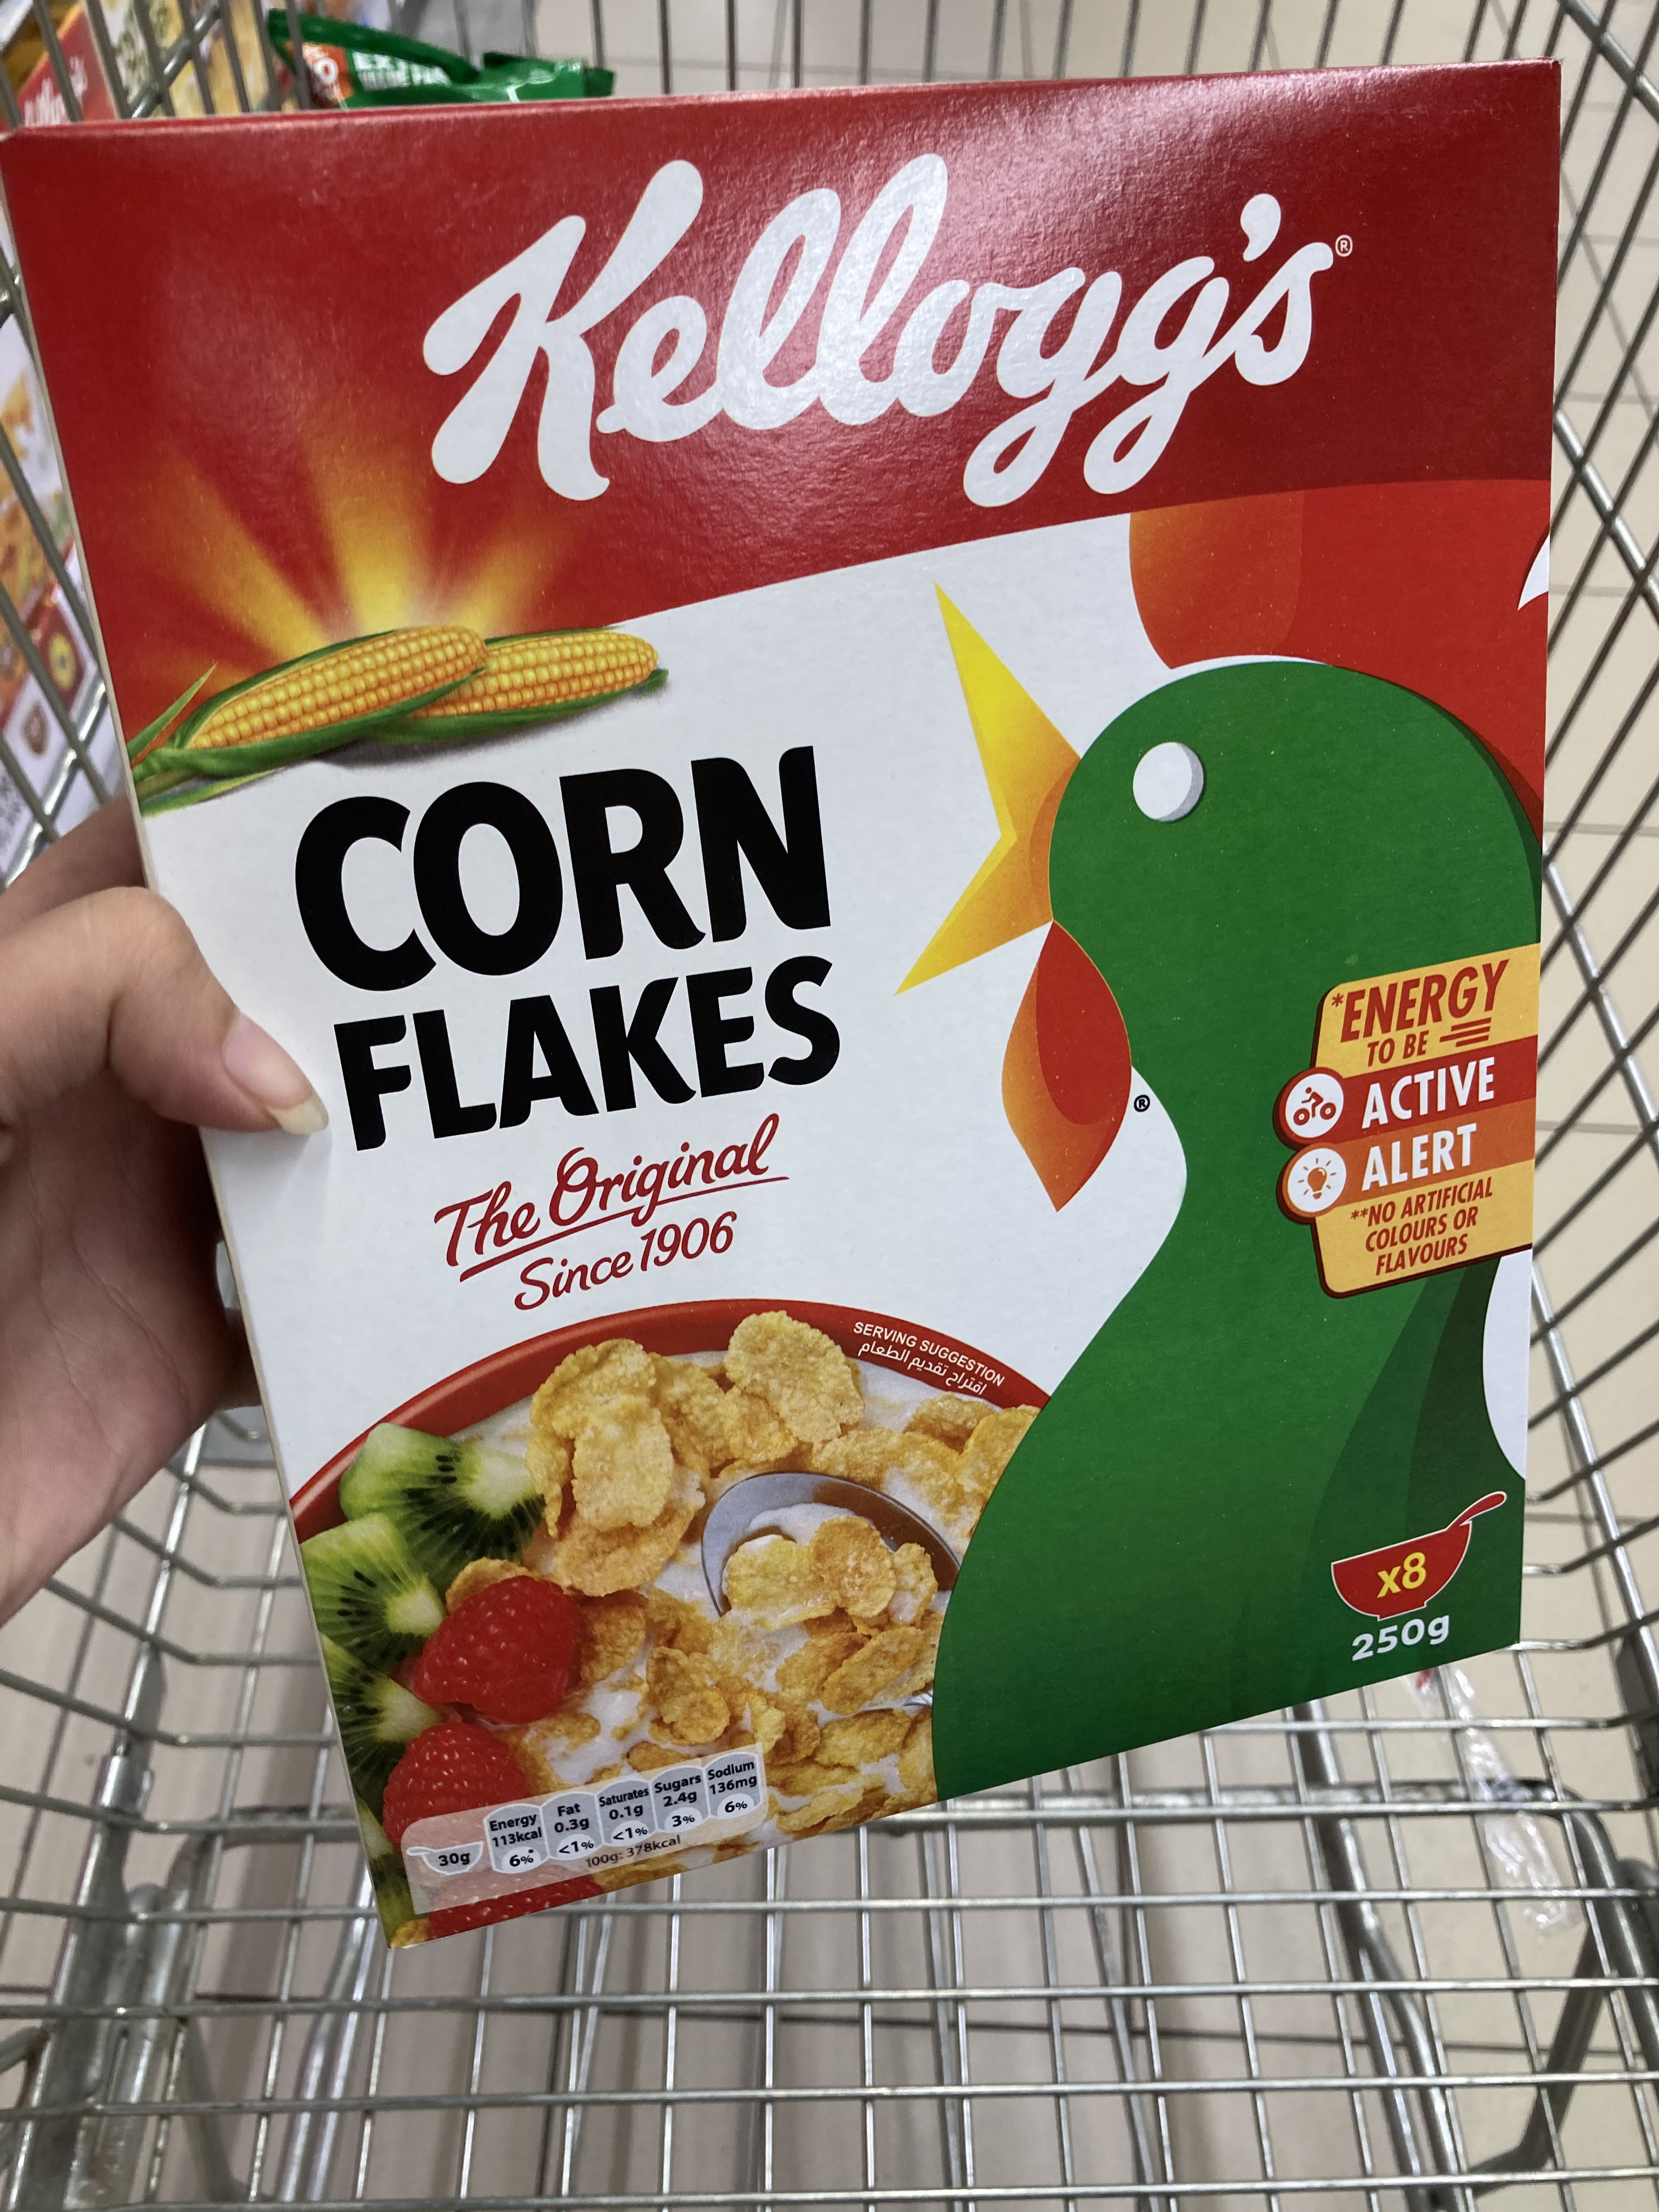Kellogg's Corn Flakes: (2, 64, 1565, 1946)
